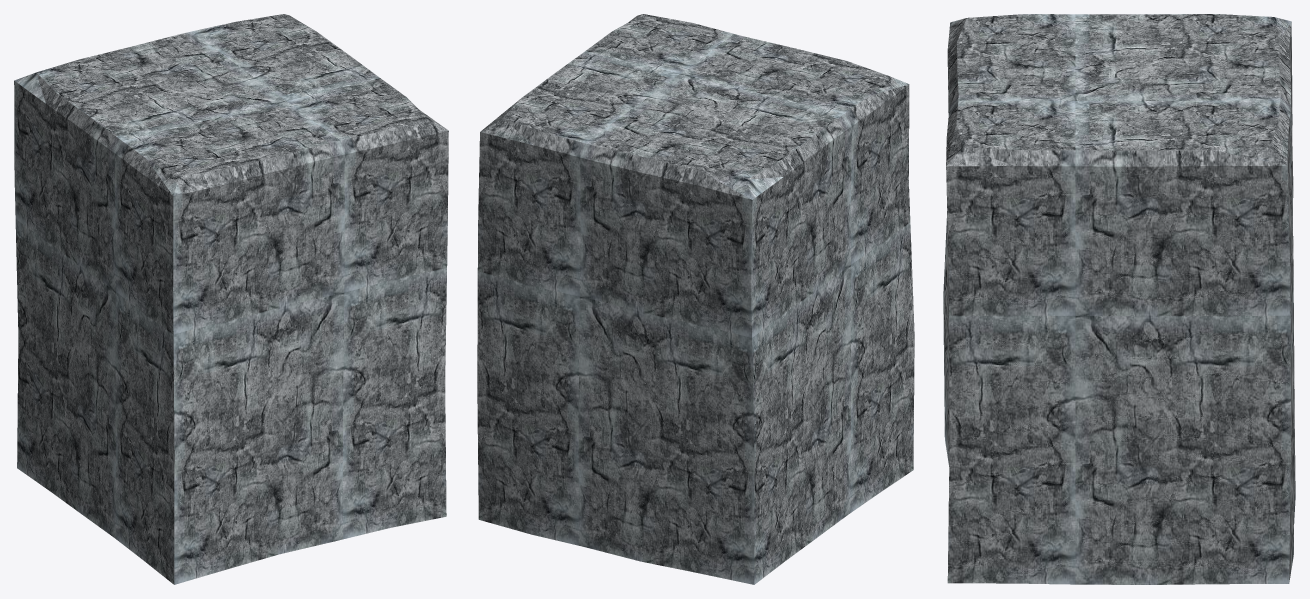
File: stone.obj
3 renders of one model, left to right at view 1: azimuth 30°, elevation 25°; view 2: azimuth 150°, elevation 25°; view 3: azimuth 270°, elevation 25°, orthographic. The views are drawn at different scales.
Parts seen in each view (by area): view 1: stone; view 2: stone; view 3: stone.
Part boxes in pixels (x1=…): stone: x1=14, y1=14, x2=448, y2=584; stone: x1=477, y1=14, x2=914, y2=584; stone: x1=943, y1=14, x2=1295, y2=584.
Size of the model in its own units: 7.37 by 10.12 by 7.52.
Materials: 1 (1 with a texture image).
